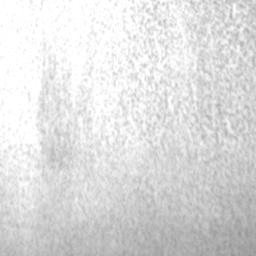Pitted surface: (84, 0, 256, 176), (28, 56, 92, 176), (133, 178, 166, 220), (207, 186, 252, 213)
